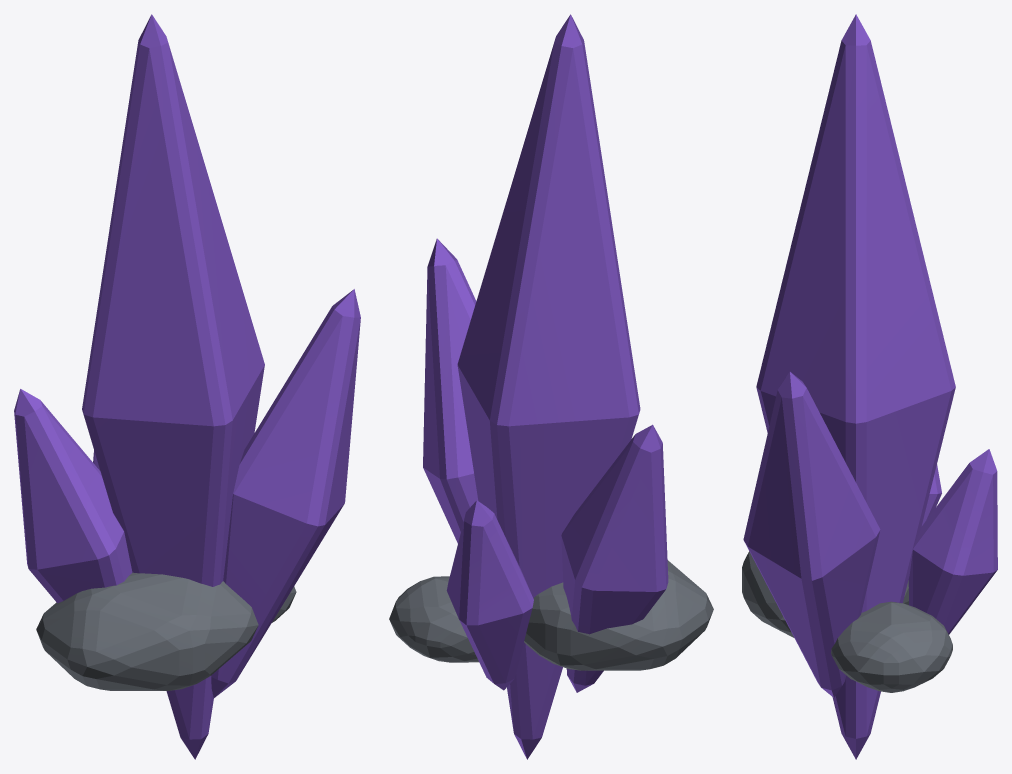
Rendered from prop_crystal.glb.
3 views of the same model, side by side, from view 1: azimuth 30°, elevation 25°; view 2: azimuth 150°, elevation 25°; view 3: azimuth 270°, elevation 25° (orthographic). The views are drawn at different scales.
Parts seen in each view (by area): view 1: prop_crystal_part_0; view 2: prop_crystal_part_0; view 3: prop_crystal_part_0.
Boxes of the visible parts, x1,y1,x2,y2 form: prop_crystal_part_0: (14,14,360,759); prop_crystal_part_0: (389,14,713,759); prop_crystal_part_0: (742,14,997,759).
Bounding box in the file's own units: 0.7219 × 1.81 × 0.5794.
